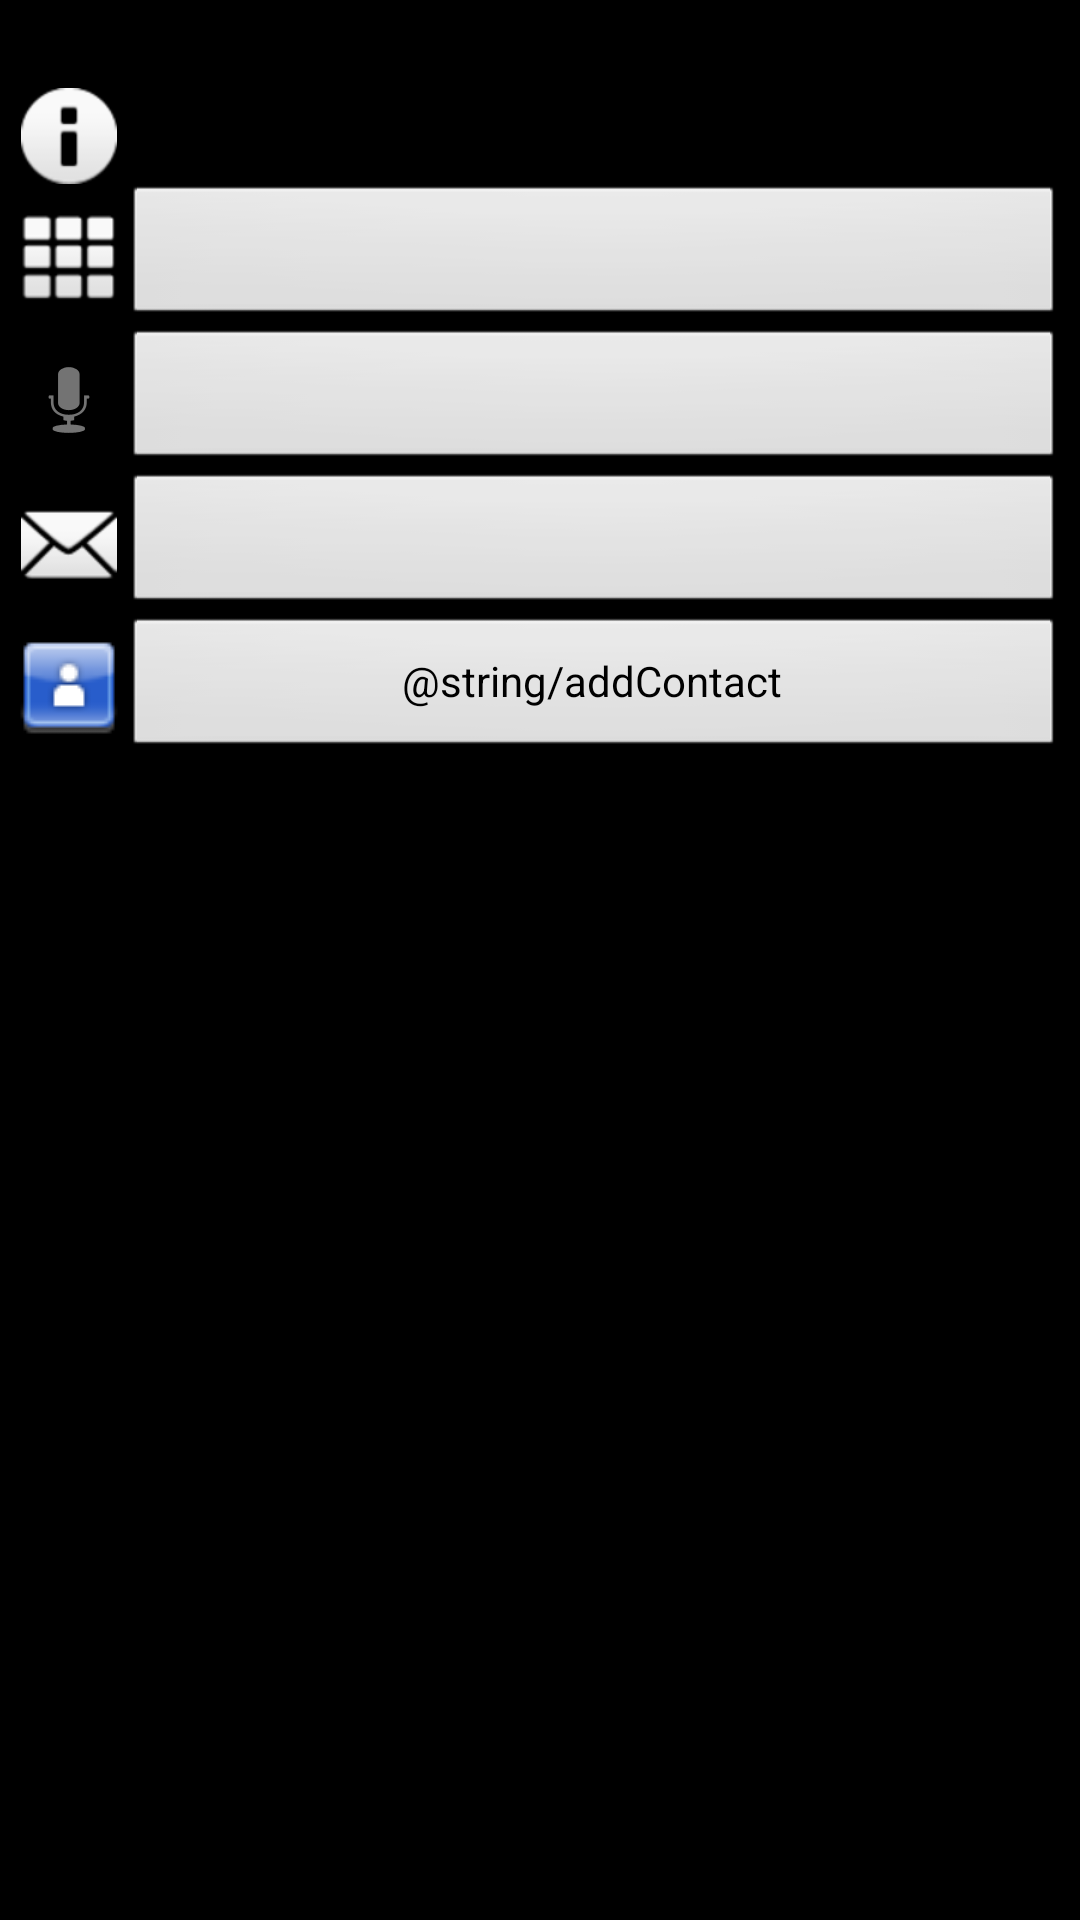

Screen size 1080 x 1920. Icon name, then its box in pixels as (left=x1, top=y1, right=x2, bottom=y2):
dialer: (left=22, top=215, right=115, bottom=299)
email: (left=21, top=511, right=117, bottom=579)
info: (left=21, top=88, right=117, bottom=184)
speak now: (left=48, top=367, right=90, bottom=433)
